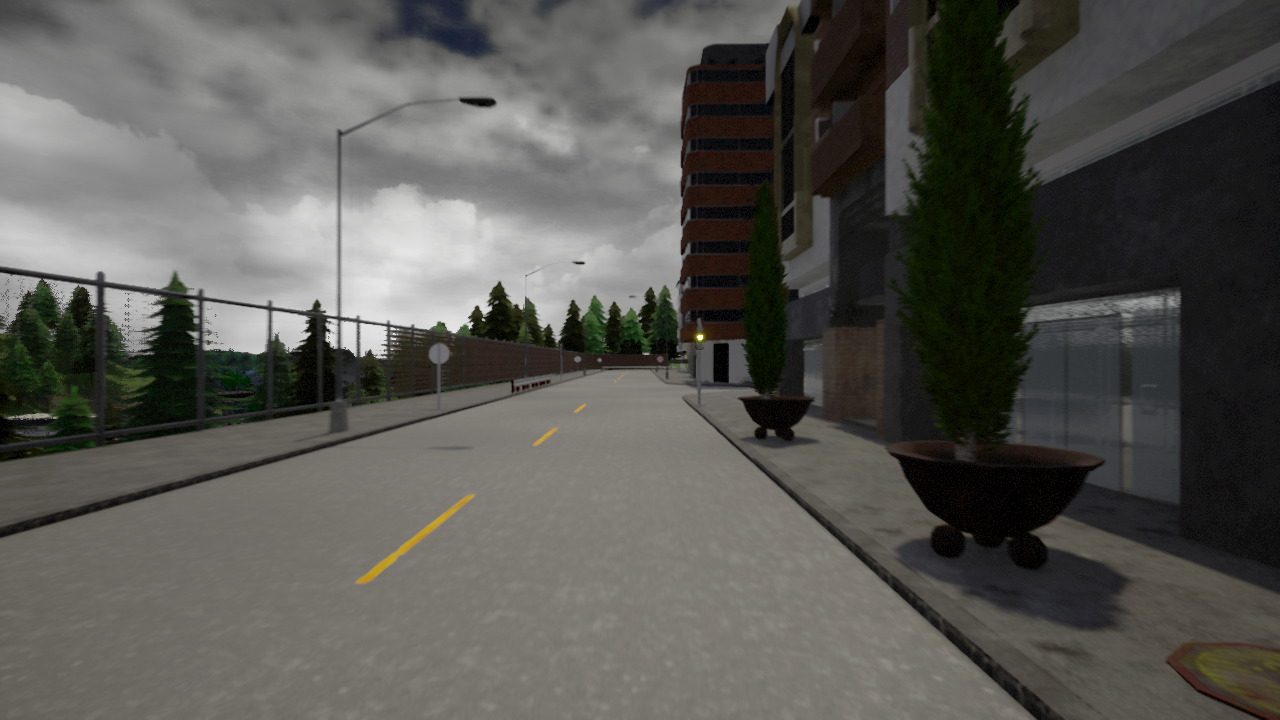yellow: (695, 324, 707, 350)
